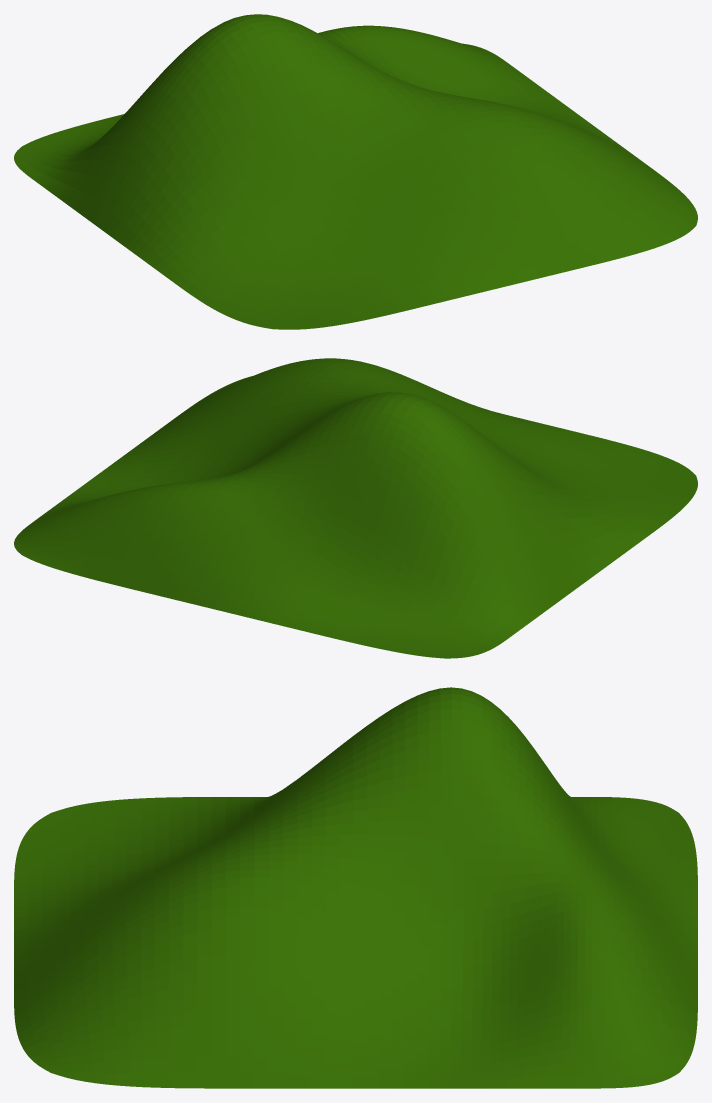
Rendered from Ground.fbx.
The picture shows the model from 3 angles, top to bottom: view 1: azimuth 30°, elevation 25°; view 2: azimuth 150°, elevation 25°; view 3: azimuth 270°, elevation 25°; orthographic projection. The views are drawn at different scales.
Visible parts, largest first — view 1: Plane; view 2: Plane; view 3: Plane.
Boxes of the visible parts, box(x1,y1,x2,y2) form: Plane: box(14, 14, 697, 329); Plane: box(14, 358, 697, 658); Plane: box(14, 687, 697, 1088).
Bounding box in the file's own units: 8294 × 2664 × 8220.
